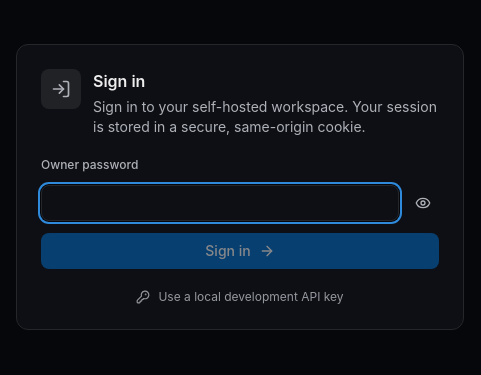
LoginPage › maps HTTP 401 authentication failures to safe guidance
Type "wrong password" into the password field labelled "Owner password" at (220, 203), box [41, 185, 399, 221]
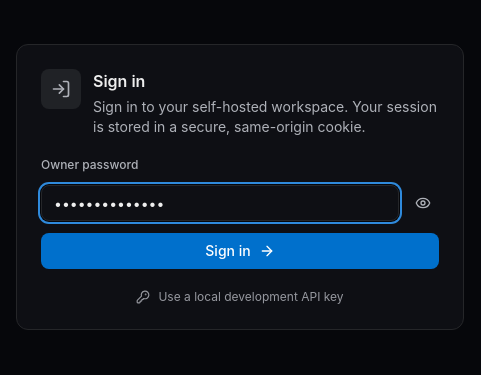
Click the button "Sign in" at (240, 251), box [41, 233, 439, 269]
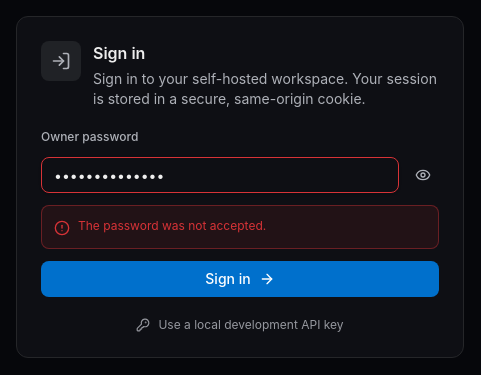
Expected: the message does not show "sensitive provider detail", [41, 205, 439, 249]
Now the message reads "The password was not accepted.", box [78, 218, 266, 233]
